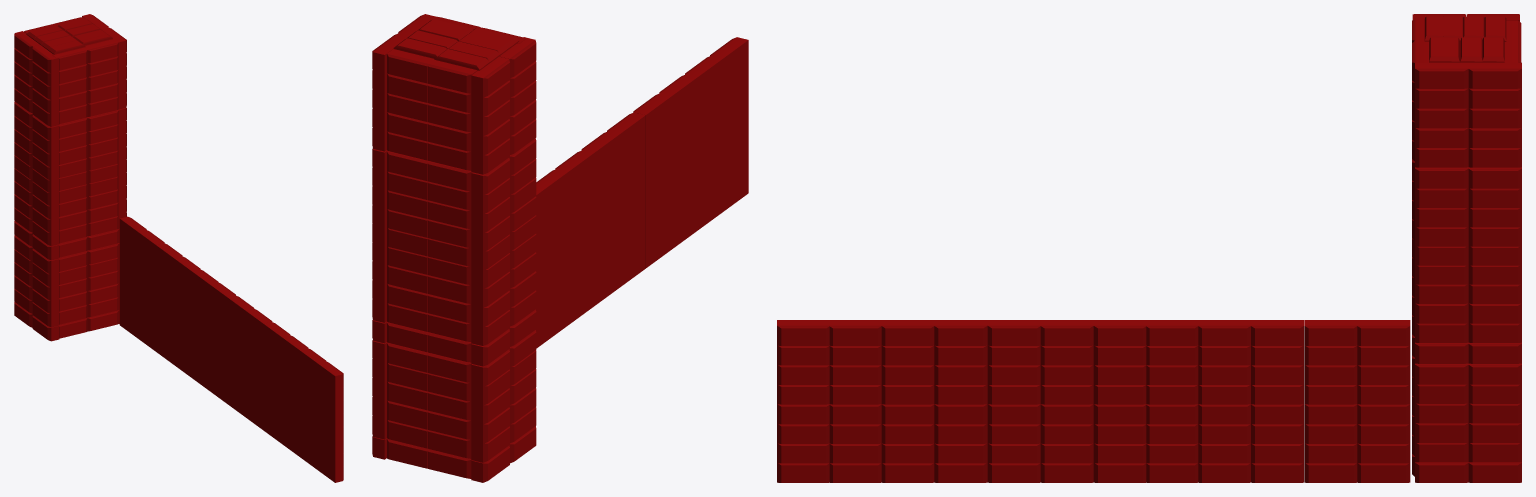
Rendered from front_walls.fbx.
3 renders of one model, left to right at view 1: azimuth 30°, elevation 25°; view 2: azimuth 150°, elevation 25°; view 3: azimuth 270°, elevation 25°, orthographic. The views are drawn at different scales.
Parts seen in each view (by area): view 1: pCube264, pCube85, pCube263, pCube262, pCube224, pCube144, pCube152, pCube104, pCube240, pCube256, pCube168, pCube120 (+71 smaller); view 2: pCube260, pCube266, pCube261, pCube220, pCube148, pCube140, pCube100, pCube88, pCube252, pCube219, pCube236, pCube116 (+144 smaller); view 3: pCube258, pCube257, pCube91, pCube89, pCube88, pCube95, pCube96, pCube87, pCube90, pCube85, pCube93, pCube92 (+126 smaller).
Part boxes in pixels (bbox=[...]): pCube264: bbox=[84, 39, 118, 63]; pCube85: bbox=[317, 361, 343, 389]; pCube263: bbox=[51, 47, 87, 70]; pCube262: bbox=[32, 45, 58, 73]; pCube224: bbox=[87, 110, 118, 131]; pCube144: bbox=[87, 243, 118, 264]; pCube152: bbox=[87, 229, 118, 250]; pCube104: bbox=[87, 310, 118, 331]; pCube240: bbox=[87, 83, 118, 103]; pCube256: bbox=[87, 56, 118, 76]; pCube168: bbox=[87, 202, 118, 222]; pCube120: bbox=[87, 283, 118, 304]; pCube260: bbox=[426, 58, 477, 93]; pCube266: bbox=[387, 49, 437, 83]; pCube261: bbox=[471, 56, 509, 97]; pCube220: bbox=[427, 161, 471, 191]; pCube148: bbox=[426, 332, 471, 362]; pCube140: bbox=[428, 353, 471, 382]; pCube100: bbox=[428, 450, 471, 478]; pCube88: bbox=[633, 93, 671, 134]; pCube252: bbox=[427, 83, 471, 113]; pCube219: bbox=[387, 151, 431, 181]; pCube236: bbox=[427, 122, 471, 151]; pCube116: bbox=[427, 410, 471, 439]; pCube258: bbox=[1468, 62, 1521, 88]; pCube257: bbox=[1415, 62, 1468, 88]; pCube91: bbox=[1093, 320, 1147, 345]; pCube89: bbox=[987, 320, 1041, 345]; pCube88: bbox=[934, 320, 987, 345]; pCube95: bbox=[1304, 320, 1357, 345]; pCube96: bbox=[1357, 320, 1410, 345]; pCube87: bbox=[881, 320, 934, 345]; pCube90: bbox=[1040, 320, 1093, 345]; pCube85: bbox=[777, 320, 830, 345]; pCube93: bbox=[1198, 320, 1251, 345]; pCube92: bbox=[1145, 320, 1198, 345].
Size of the model in its own units: 6.15 by 20.94 by 33.76.
